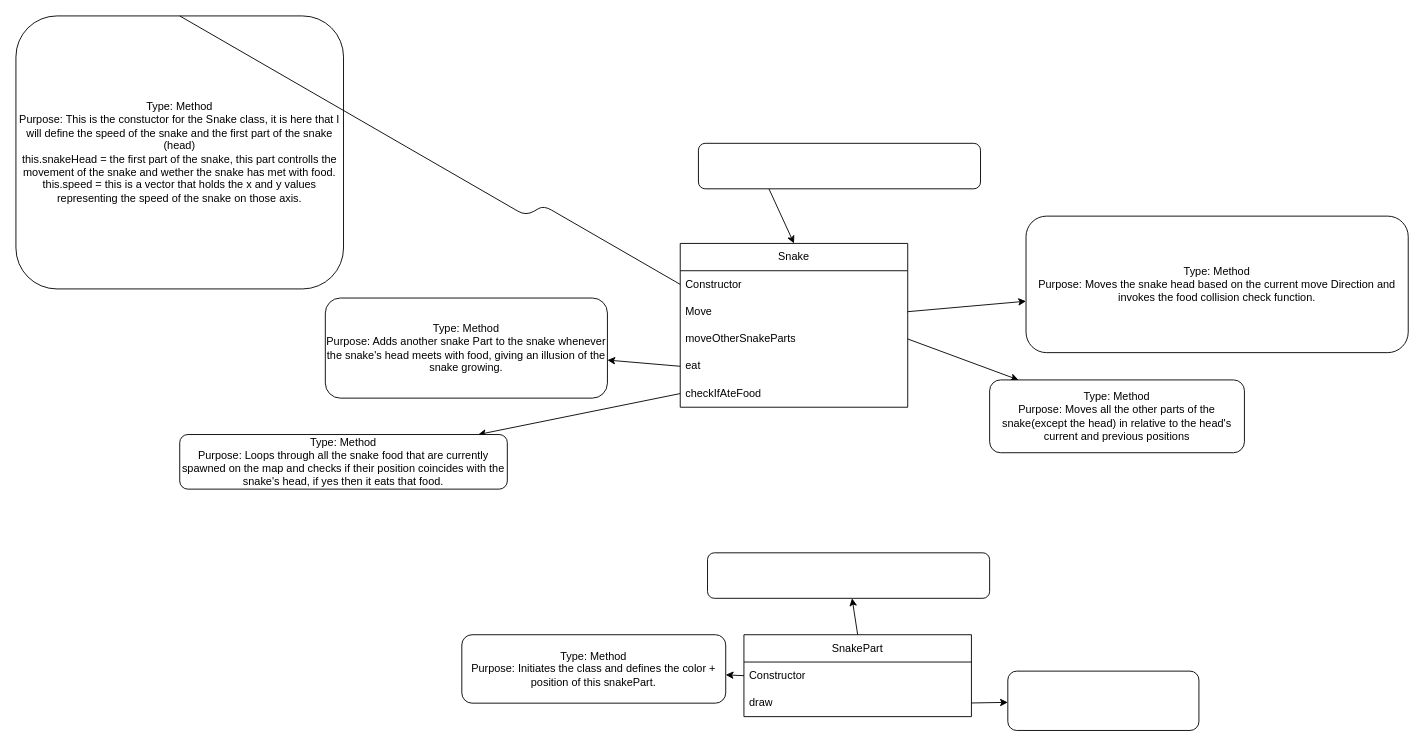
The diagram is 1424 pixels wide and 747 high, and some of its shapes have lost their labels. The shapes that lost their labels are listed below. From the top down, each one's centre as x and y in pixels, then its label:
At (x=839, y=165): "This class represents the snake that the player plays as.".
At (x=848, y=575): "This class represents the parts/blocks that make up the snake.".
At (x=1103, y=700): "Type: Method Purpose: Draws the SnakePart onto the canvas".
